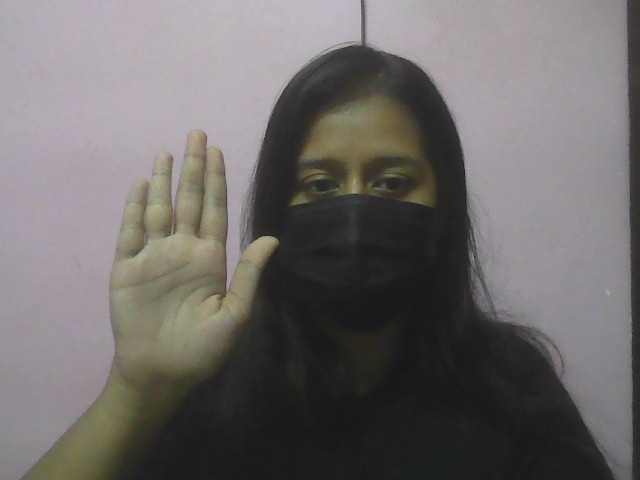Hello: (78, 110, 294, 407)
